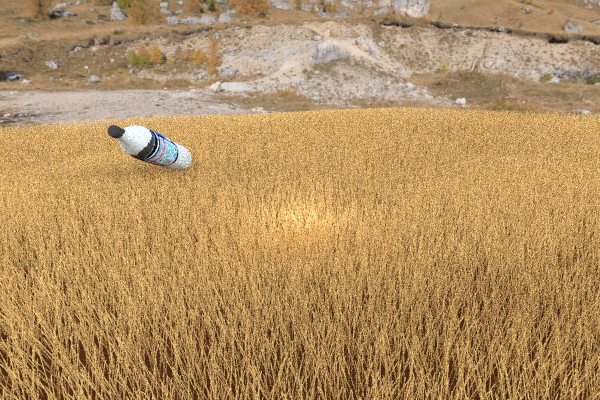bottle: (107, 125, 191, 171)
